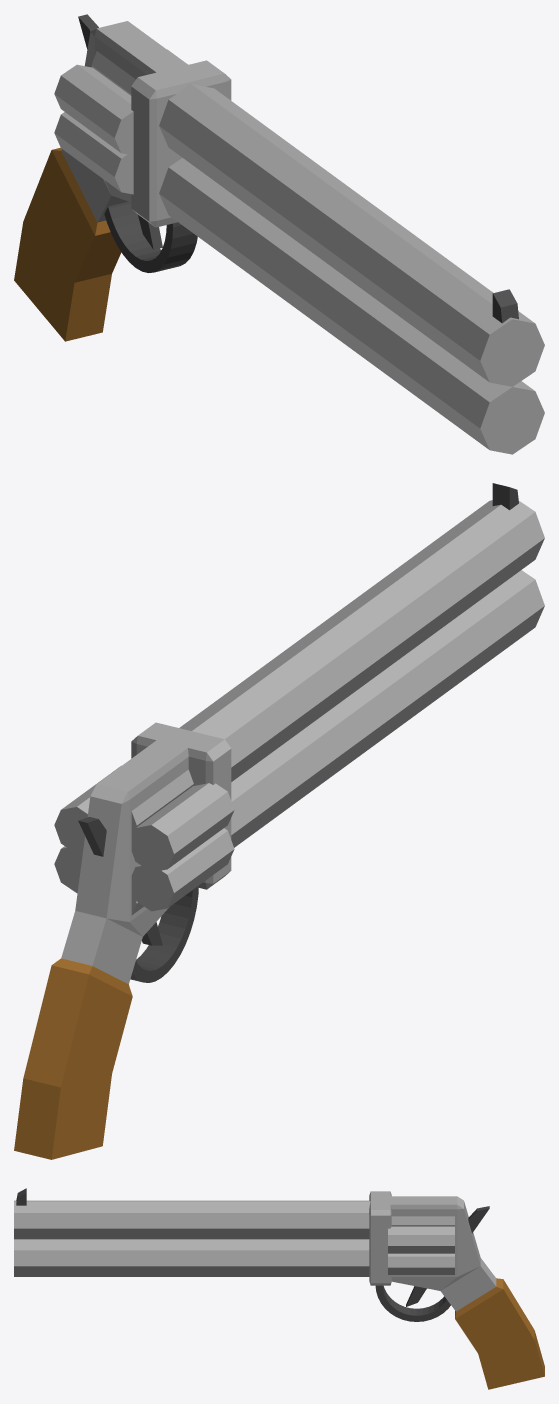
File: revolver_low_poly.glb
3 renders of one model, top to bottom at view 1: azimuth 30°, elevation 25°; view 2: azimuth 150°, elevation 25°; view 3: azimuth 270°, elevation 25°, orthographic. The views are drawn at different scales.
Visible parts, largest first — view 1: B; view 2: B; view 3: B.
Part boxes in pixels (x1,y1,x2,y2): B: [14, 14, 544, 454]; B: [14, 483, 544, 1159]; B: [14, 1188, 544, 1389].
Size of the model in its own units: 0.5558 by 1.56 by 3.85.
